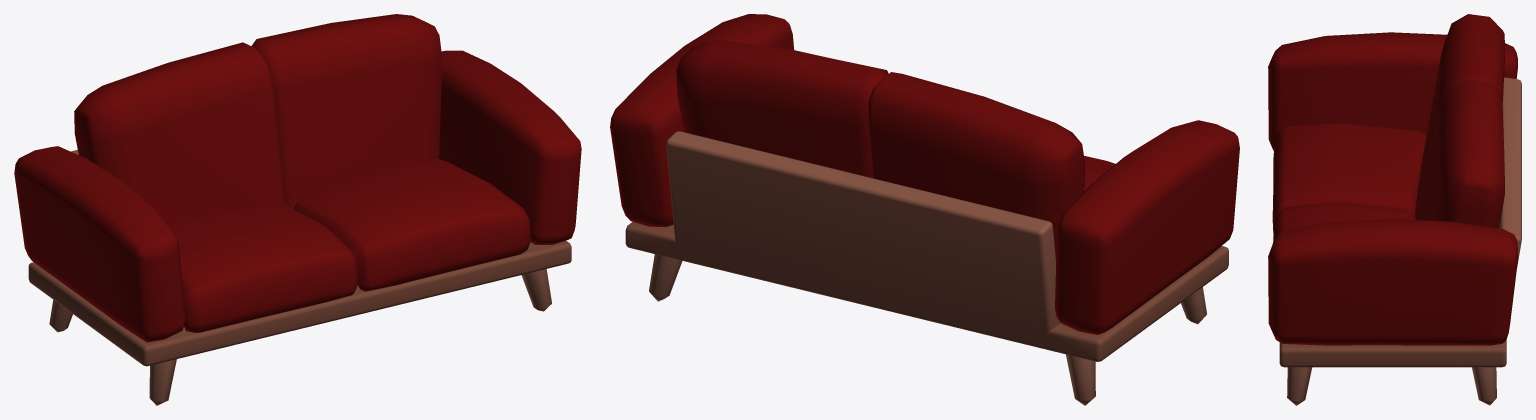
File: Couch_05.obj
The picture shows the model from 3 angles, left to right: view 1: azimuth 30°, elevation 25°; view 2: azimuth 150°, elevation 25°; view 3: azimuth 270°, elevation 25°; orthographic projection. The views are drawn at different scales.
Visible parts, largest first — view 1: Couch_05; view 2: Couch_05; view 3: Couch_05.
Part boxes in pixels (left/top/right/bottom): Couch_05: left=14, top=14, right=581, bottom=405; Couch_05: left=610, top=14, right=1239, bottom=405; Couch_05: left=1268, top=14, right=1521, bottom=405.
Bounding box in the file's own units: 1.72 × 0.892 × 0.8595.
Materials: 2 (1 with a texture image).
